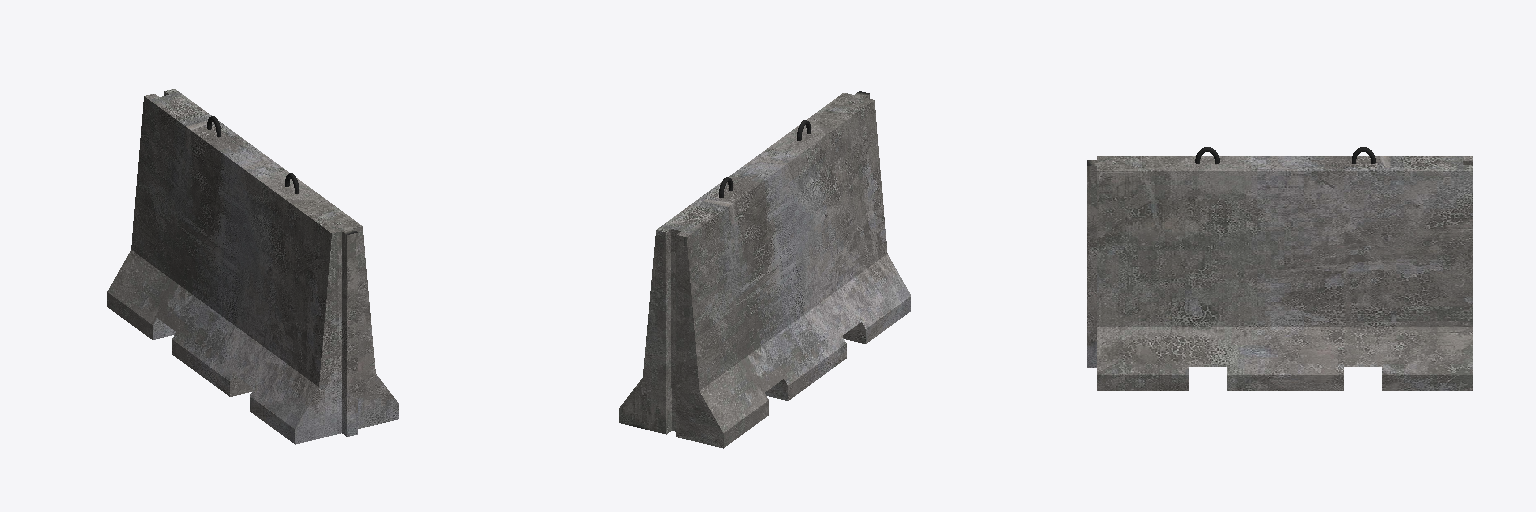
3 views of the same model, side by side, from view 1: azimuth 30°, elevation 25°; view 2: azimuth 150°, elevation 25°; view 3: azimuth 270°, elevation 25° (orthographic).
Parts seen in each view (by area): view 1: Concrete_Barricade_LP; view 2: Concrete_Barricade_LP; view 3: Concrete_Barricade_LP.
Boxes of the visible parts, <box> form: Concrete_Barricade_LP: <box>107,89,398,444</box>; Concrete_Barricade_LP: <box>619,91,910,448</box>; Concrete_Barricade_LP: <box>1087,147,1472,390</box>.
Size of the model in its own units: 0.5401 by 1.08 by 1.73.
1 materials, 1 textured.